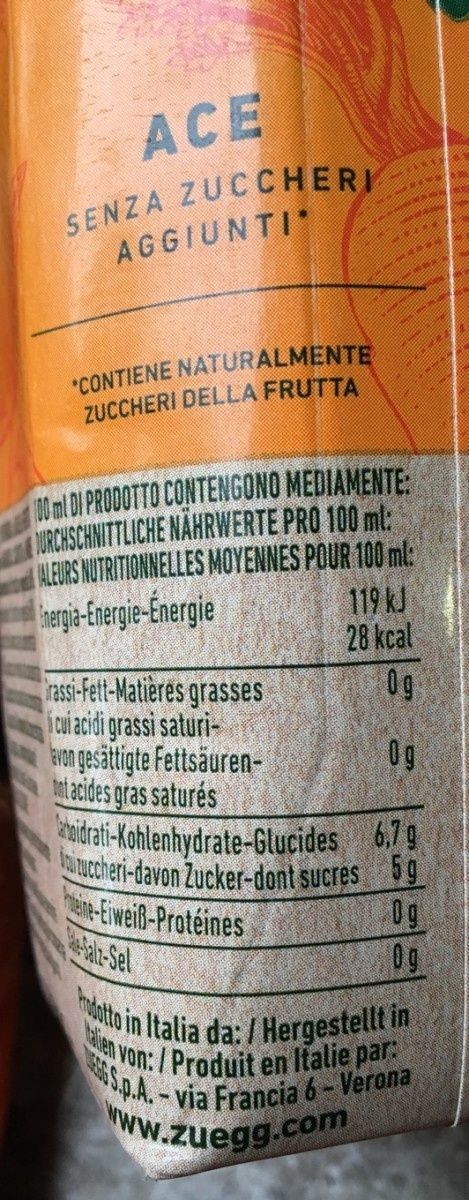column: (41, 591, 340, 972), (344, 583, 425, 977)
table: (35, 585, 432, 995)
